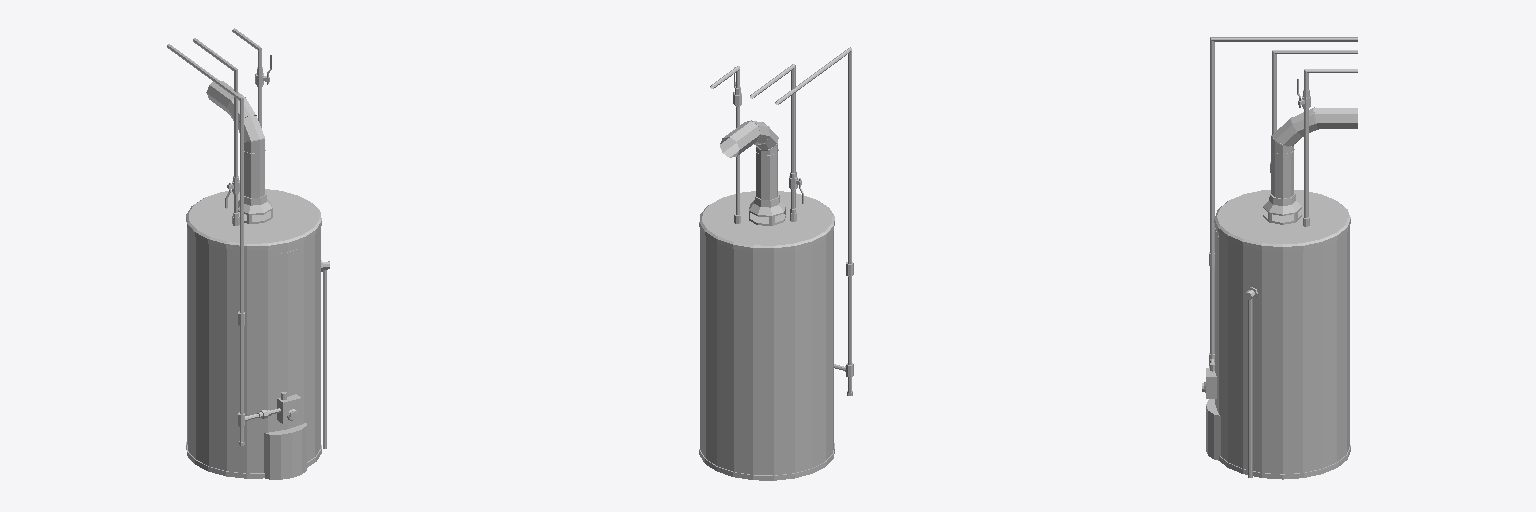
Rendered from water_heater.obj.
3 views of the same model, side by side, from view 1: azimuth 30°, elevation 25°; view 2: azimuth 150°, elevation 25°; view 3: azimuth 270°, elevation 25° (orthographic).
Visible parts, largest first — view 1: Model001_4_water heater tank_1_0_0; view 2: Model001_4_water heater tank_1_0_0; view 3: Model001_4_water heater tank_1_0_0.
Part boxes in pixels (x1,y1,x2,y2): Model001_4_water heater tank_1_0_0: (167,28,329,479); Model001_4_water heater tank_1_0_0: (699,47,853,480); Model001_4_water heater tank_1_0_0: (1202,37,1357,479).
Bounding box in the file's own units: 0.8498 × 2.65 × 0.9613.